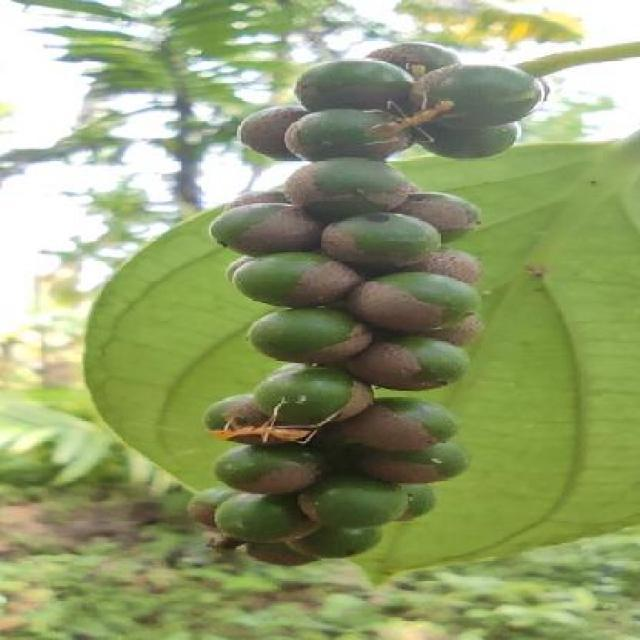UNRIPE: (188, 45, 541, 565)
